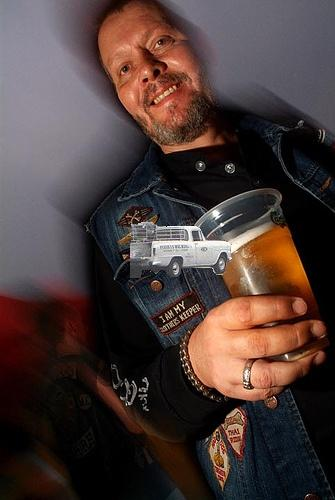tampered: (131, 223, 232, 278)
